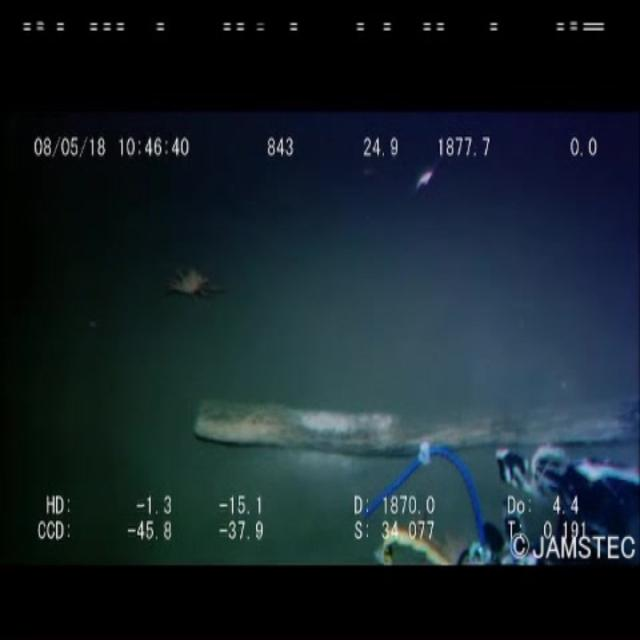Natual-Debris: (143, 244, 272, 344)
Wood: (190, 369, 640, 476)
